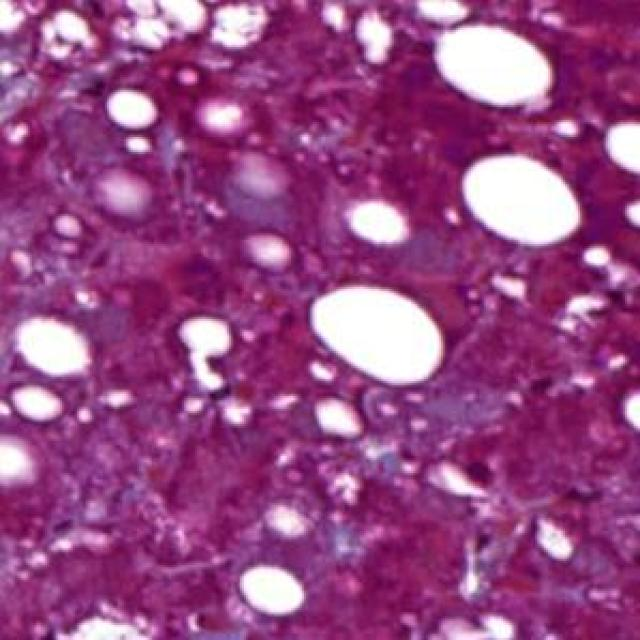steatosis: (310, 282, 452, 388), (449, 152, 591, 255), (432, 23, 559, 118)
